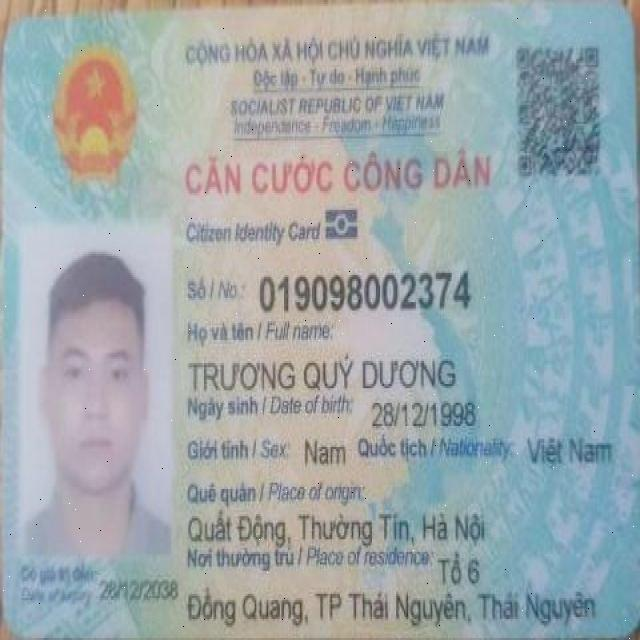current_place: (179, 578, 603, 631), (428, 546, 486, 589)
dob: (367, 397, 483, 435)
expire_date: (94, 569, 183, 607)
gender: (298, 428, 355, 471)
id: (253, 259, 481, 318)
name: (187, 348, 468, 397)
nationality: (523, 428, 617, 472)
origin_place: (185, 506, 494, 550)
